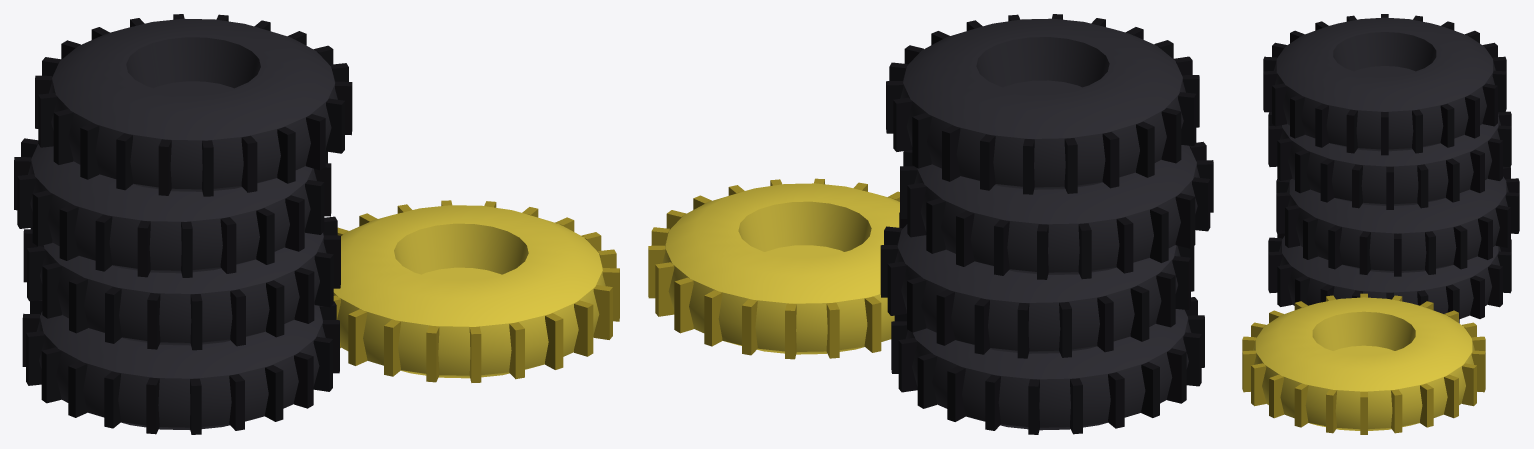
Rendered from tires.glb.
3 views of the same model, side by side, from view 1: azimuth 30°, elevation 25°; view 2: azimuth 150°, elevation 25°; view 3: azimuth 270°, elevation 25° (orthographic). The views are drawn at different scales.
Visible parts, largest first — view 1: tires; view 2: tires; view 3: tires.
Part boxes in pixels (box(x1,y1,x2,y2)): tires: box(14, 14, 619, 434); tires: box(648, 14, 1213, 434); tires: box(1242, 14, 1519, 434).
Size of the model in its own units: 1.87 by 1.04 by 1.06.
